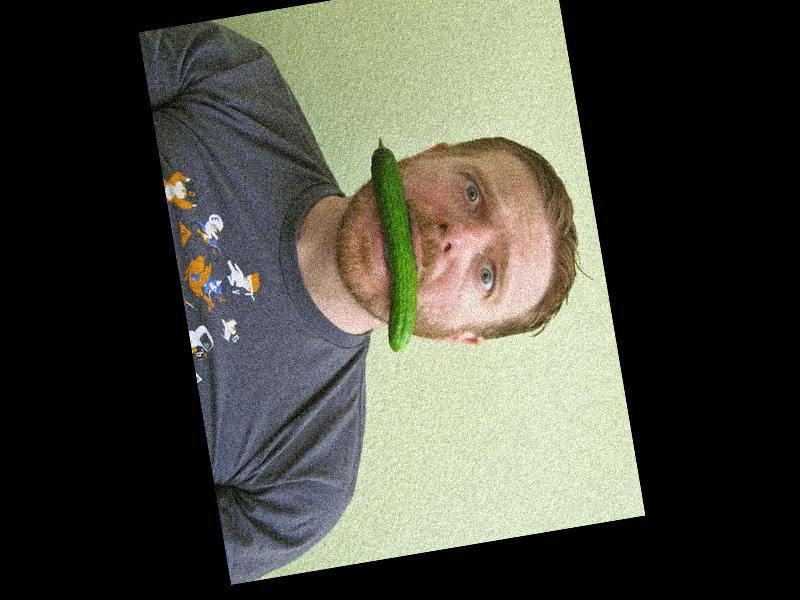Cucumber: (355, 135, 430, 355)
